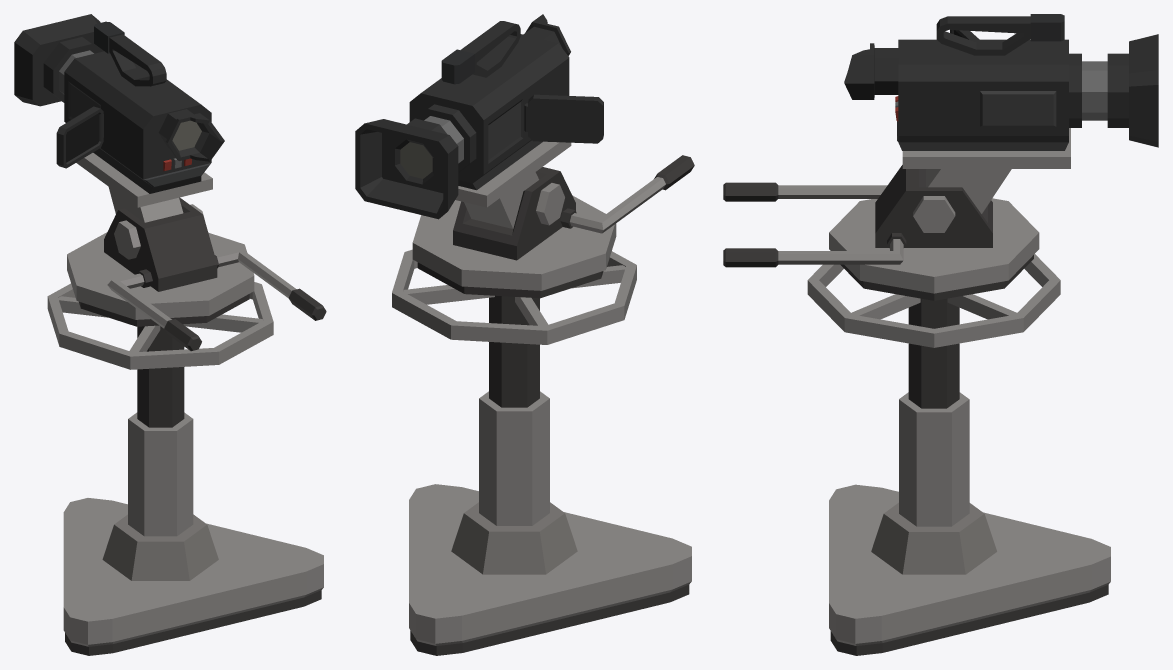
File: SM_Props_News_Stand.fbx
3 views of the same model, side by side, from view 1: azimuth 30°, elevation 25°; view 2: azimuth 150°, elevation 25°; view 3: azimuth 270°, elevation 25° (orthographic). The views are drawn at different scales.
Visible parts, largest first — view 1: SM_Props_News_Stand, SM_Props_News_Stand_Top; view 2: SM_Props_News_Stand, SM_Props_News_Stand_Top; view 3: SM_Props_News_Stand_Top, SM_Props_News_Stand.
Part boxes in pixels (x1=…): SM_Props_News_Stand: x1=47, y1=282, x2=323, y2=655; SM_Props_News_Stand_Top: x1=14, y1=14, x2=326, y2=351; SM_Props_News_Stand: x1=392, y1=249, x2=691, y2=655; SM_Props_News_Stand_Top: x1=355, y1=14, x2=694, y2=298; SM_Props_News_Stand_Top: x1=723, y1=14, x2=1158, y2=300; SM_Props_News_Stand: x1=807, y1=254, x2=1110, y2=655.
Bounding box in the file's own units: 96.62 × 192 × 133.
